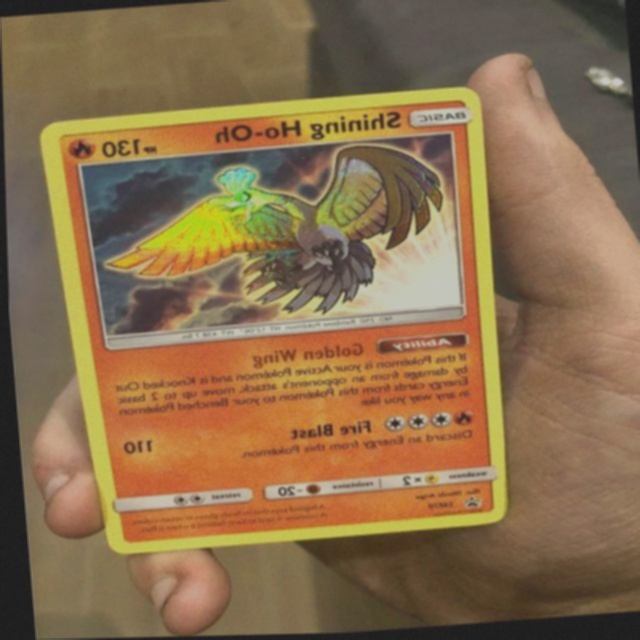card: (36, 87, 505, 555)
